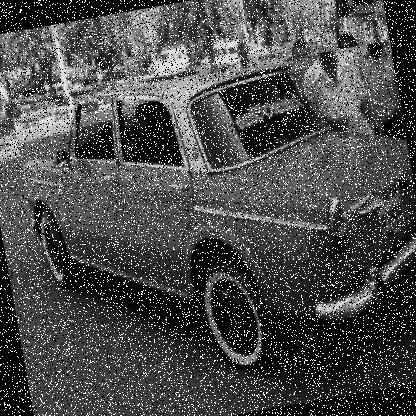Car: (10, 40, 415, 398), (232, 39, 415, 242), (0, 45, 129, 113), (197, 37, 249, 76), (369, 53, 401, 114), (142, 44, 194, 74), (200, 42, 240, 67), (0, 75, 12, 117)
